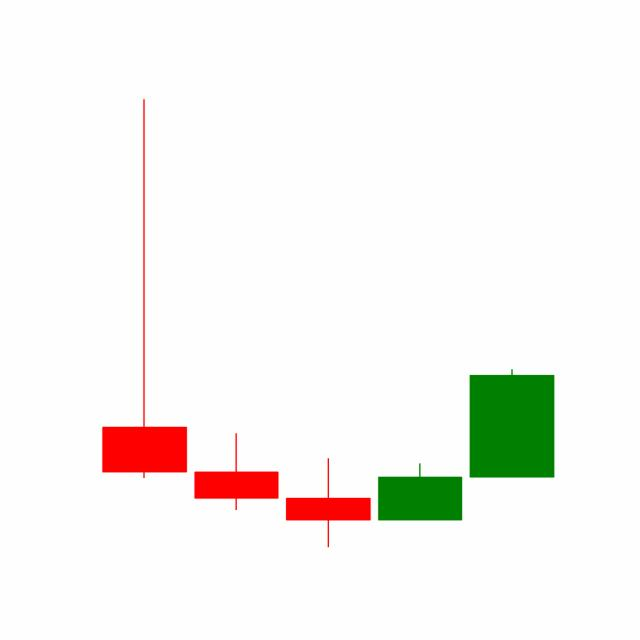Marubozu: (464, 367, 558, 479)
